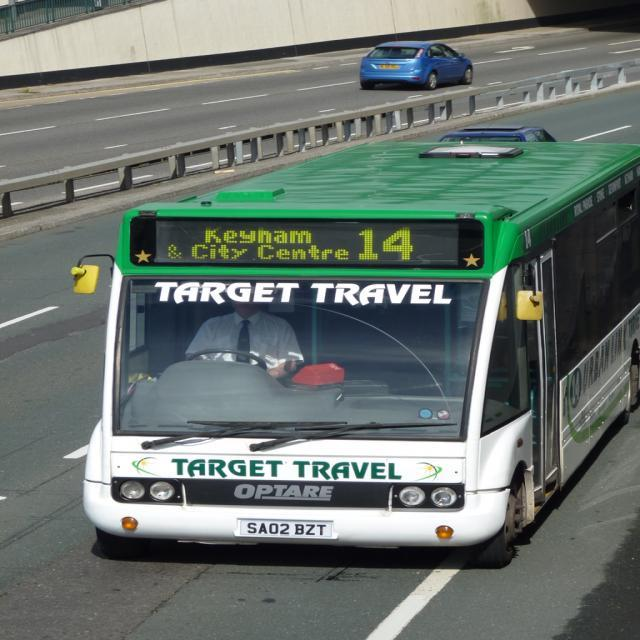motorcycle: (66, 139, 640, 557)
truck: (356, 36, 476, 104)
